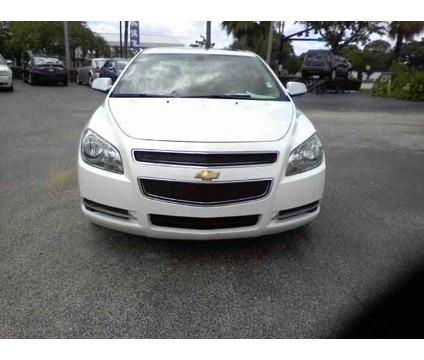Car: (68, 37, 342, 259), (14, 44, 73, 94)
